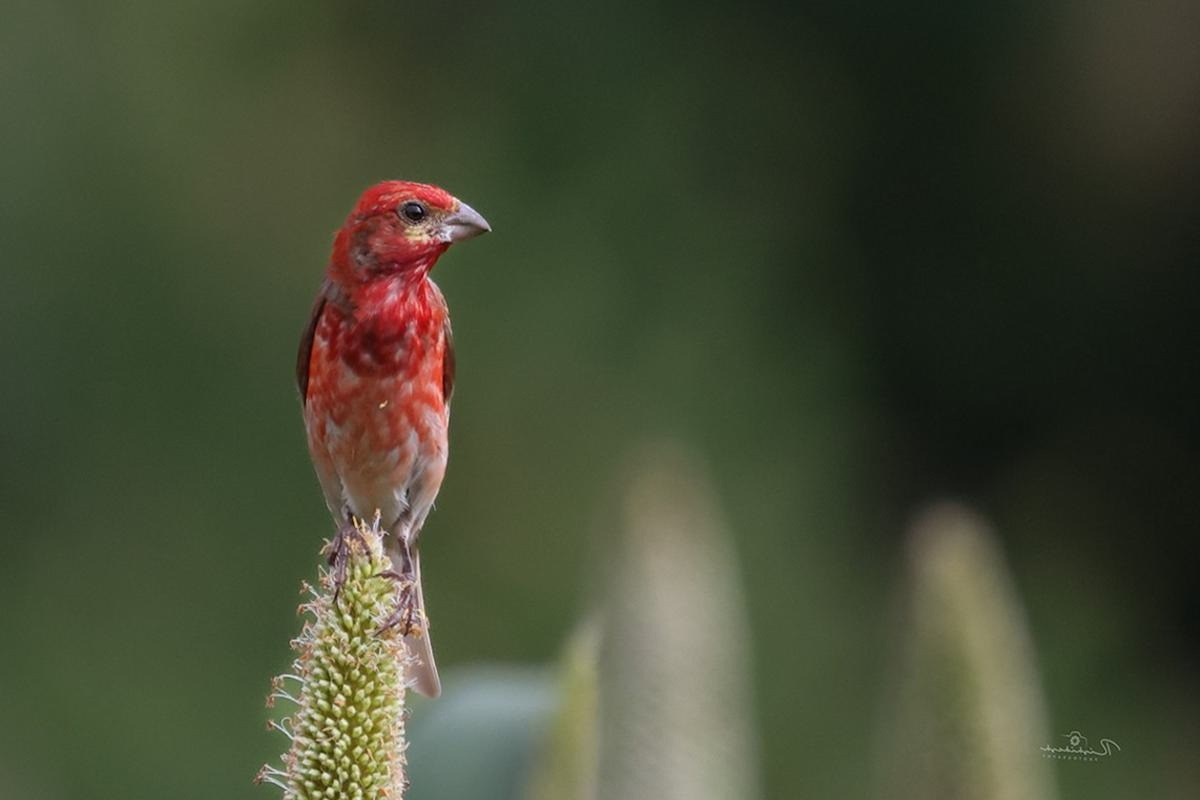rosefinch: (289, 134, 520, 561)
